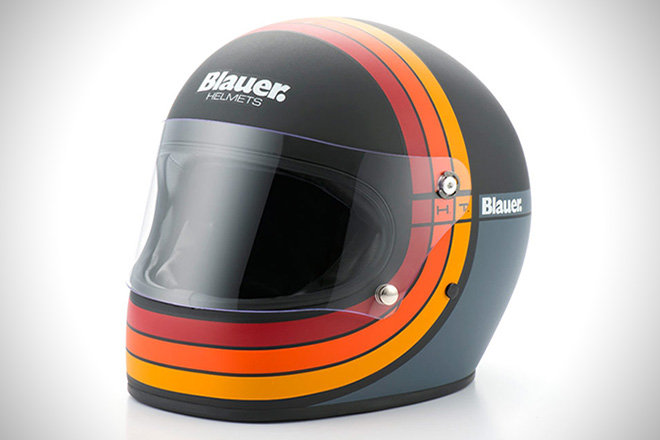with_helmet: (117, 10, 536, 425)
